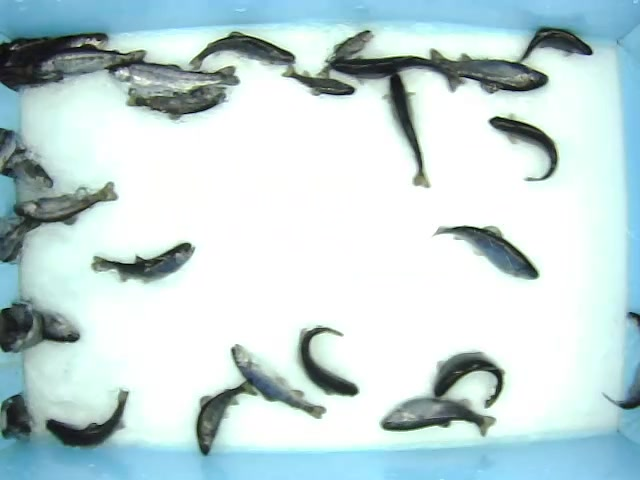fish: (229, 343, 328, 420), (431, 225, 540, 281), (382, 71, 431, 189), (44, 386, 131, 452), (430, 46, 549, 94), (327, 55, 469, 94), (195, 375, 261, 458), (377, 395, 497, 439), (485, 113, 559, 183), (11, 181, 120, 228), (104, 61, 243, 96), (88, 240, 194, 285), (431, 349, 507, 410), (297, 325, 360, 397), (188, 31, 299, 71), (32, 44, 147, 80), (124, 85, 227, 121), (515, 22, 595, 65), (316, 28, 376, 82), (282, 62, 357, 97)
